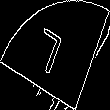L_SW: (36, 26, 74, 84)
